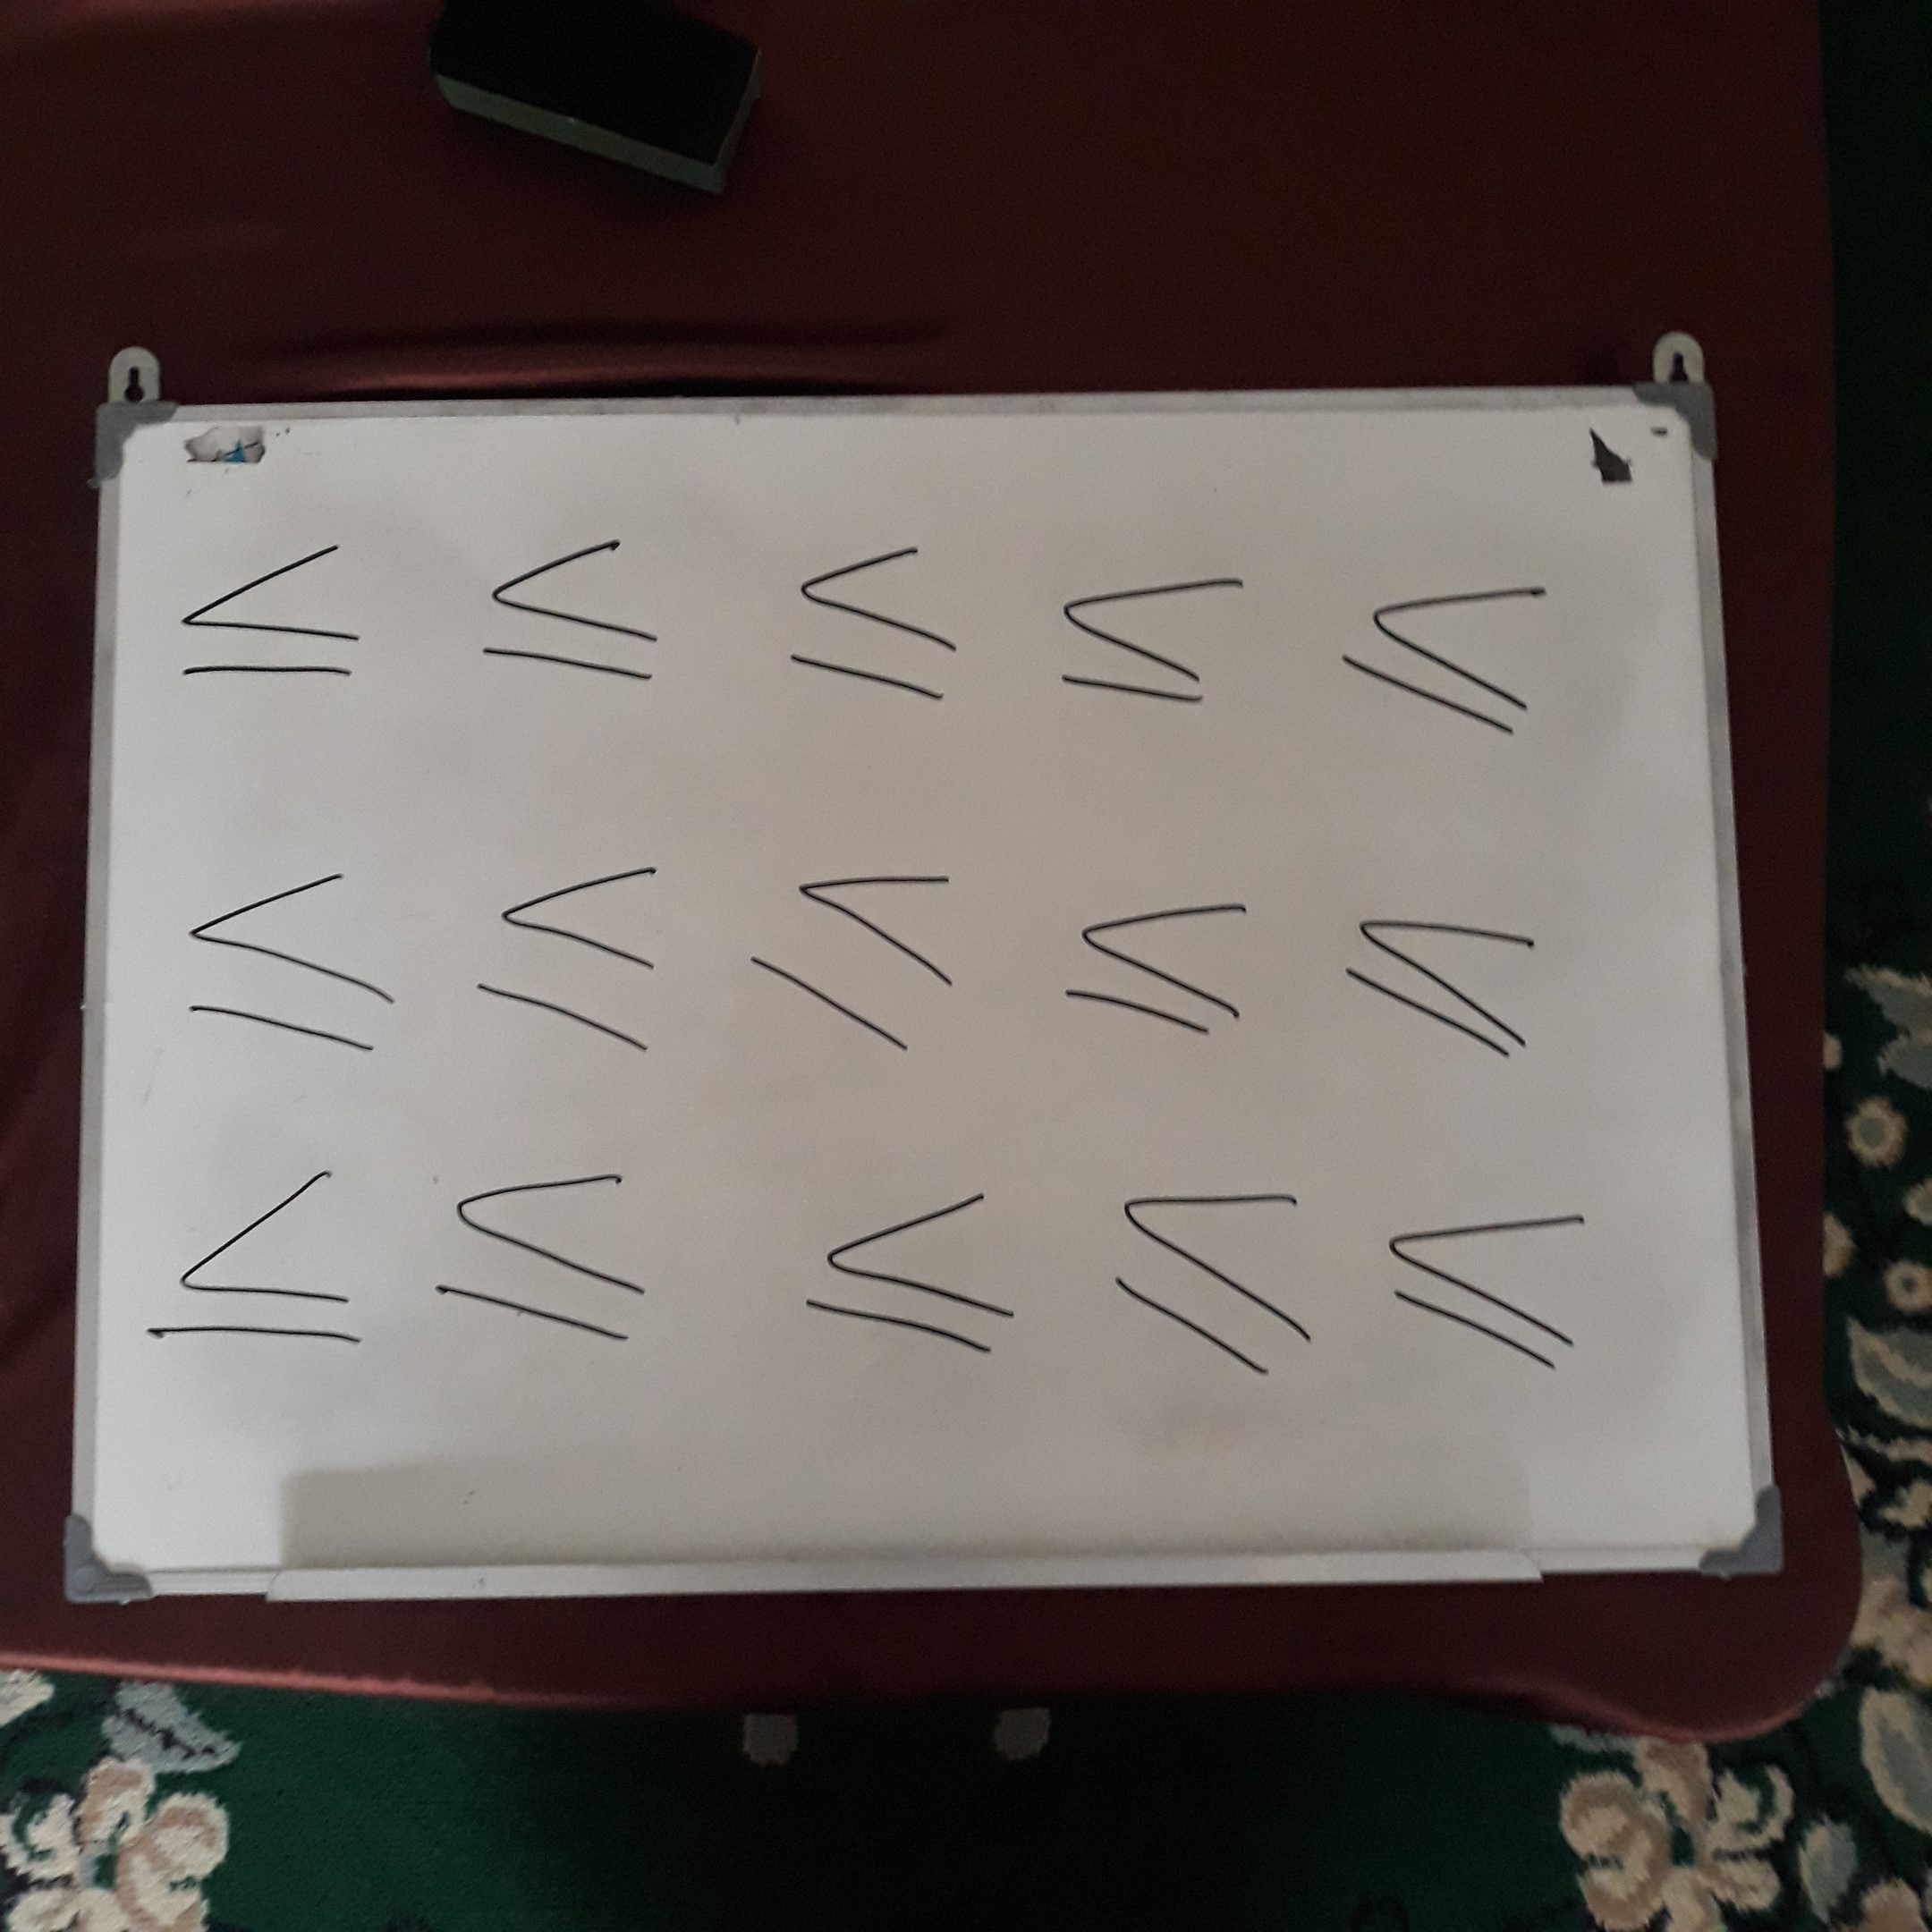lessthan-equal: (150, 842, 427, 1080), (446, 836, 723, 1074), (1089, 1174, 1342, 1411), (1369, 1169, 1614, 1385), (1036, 860, 1286, 1069), (779, 1172, 1030, 1380), (739, 862, 989, 1071), (1326, 877, 1577, 1086), (416, 1157, 666, 1365), (123, 1155, 374, 1363), (155, 526, 397, 713), (445, 519, 688, 706), (1036, 544, 1265, 728), (757, 530, 986, 715), (1330, 561, 1559, 745)
